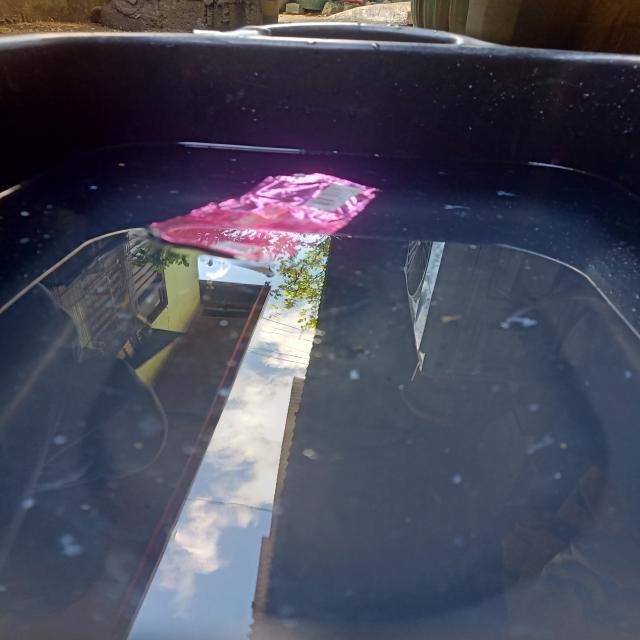Plastic Wrapper: (149, 173, 376, 261)
